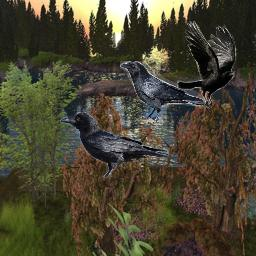Crow: (60, 112, 170, 180), (120, 61, 206, 125), (177, 21, 236, 110)
